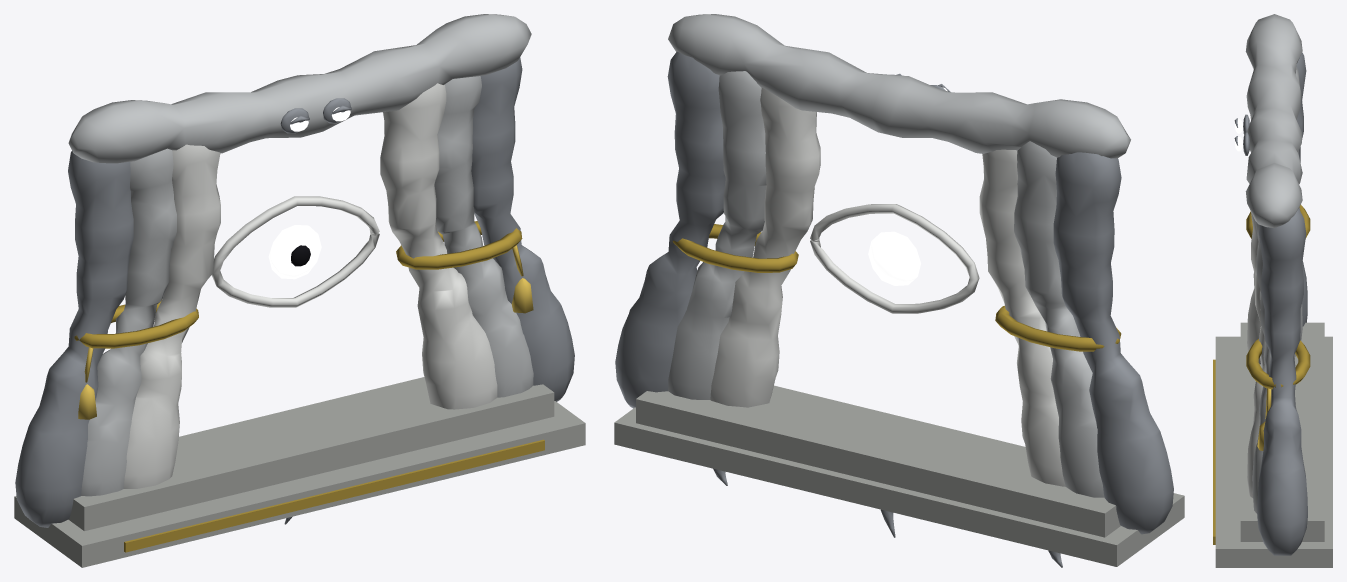
The model's file is fog-sudden-clearing.glb.
The picture shows the model from 3 angles, left to right: view 1: azimuth 30°, elevation 25°; view 2: azimuth 150°, elevation 25°; view 3: azimuth 270°, elevation 25°; orthographic projection. The views are drawn at different scales.
Parts seen in each view (by area): view 1: fog_sudden_clearing, pulse_fog_r, pulse_fog_l, blink_eye, sway_tassel_l, sway_tassel_r; view 2: fog_sudden_clearing, pulse_fog_l, pulse_fog_r, blink_eye; view 3: fog_sudden_clearing, pulse_fog_l, pulse_fog_r, sway_tassel_l, blink_eyes.
Part boxes in pixels (x1,y1,x2,y2): fog_sudden_clearing: (14, 14, 585, 567); pulse_fog_r: (15, 144, 220, 527); pulse_fog_l: (380, 57, 574, 409); blink_eye: (268, 225, 321, 279); sway_tassel_l: (511, 245, 533, 313); sway_tassel_r: (78, 347, 96, 419); fog_sudden_clearing: (614, 14, 1184, 566); pulse_fog_l: (615, 51, 820, 408); pulse_fog_r: (979, 141, 1173, 534); blink_eye: (868, 231, 920, 285); fog_sudden_clearing: (1213, 14, 1332, 567); pulse_fog_l: (1247, 207, 1307, 555); pulse_fog_r: (1247, 52, 1307, 364); sway_tassel_l: (1257, 388, 1271, 450); blink_eyes: (1235, 119, 1242, 151).
Size of the model in its own units: 1.31 by 1.07 by 0.286.
